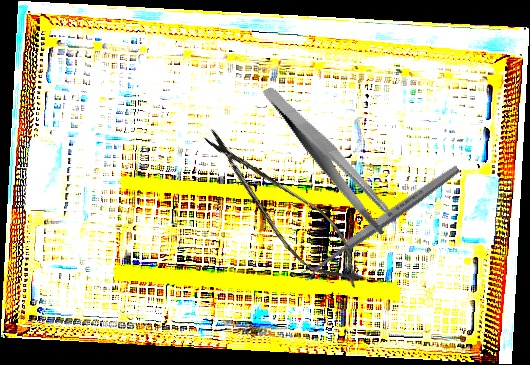Dressing Forceps: (261, 64, 398, 254)
Micro Scissor: (185, 113, 381, 305)
Surgical Spoon: (299, 162, 462, 283)
